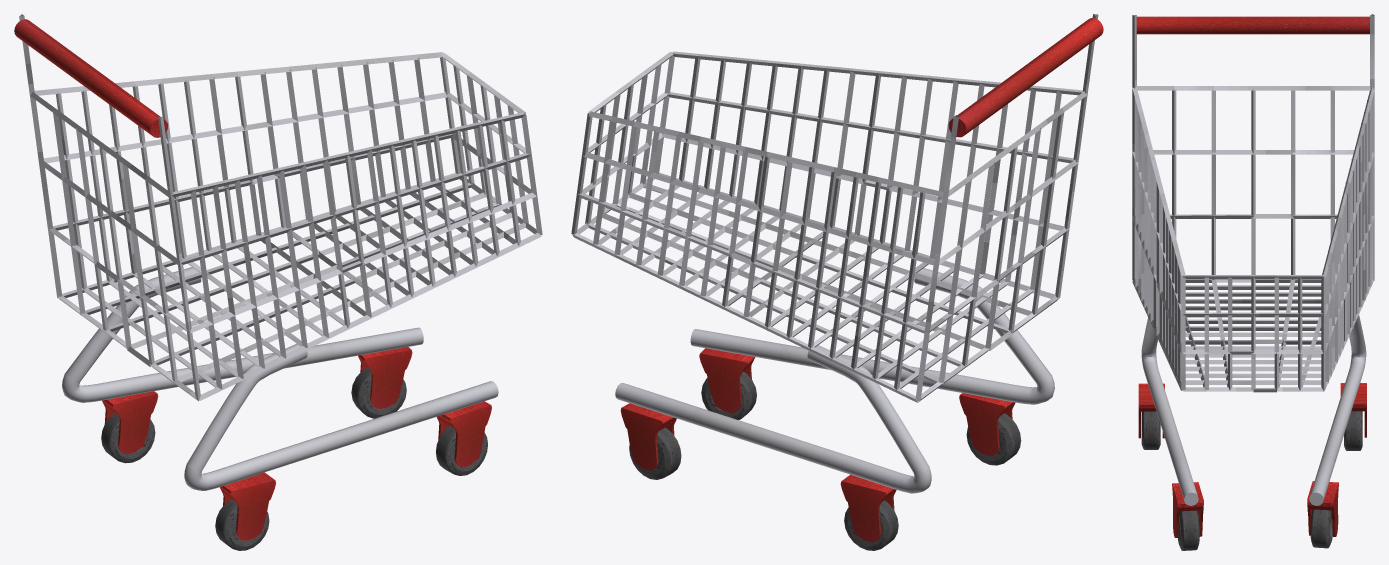
File: ShoppingCart.fbx
3 views of the same model, side by side, from view 1: azimuth 30°, elevation 25°; view 2: azimuth 150°, elevation 25°; view 3: azimuth 270°, elevation 25° (orthographic). The views are drawn at different scales.
Parts seen in each view (by area): view 1: Basket, BottomHandle, BottomHnadle2, Cylinder001, WheelHolder, WheelHolder001, WheelHolder003, WheelHolder002, Wheel004, Wheel006, Wheel005, Wheel007; view 2: Basket, BottomHnadle2, BottomHandle, Cylinder001, WheelHolder002, WheelHolder001, WheelHolder003, WheelHolder, Wheel004, Wheel006, Wheel005, Wheel007; view 3: Basket, Cylinder001, BottomHnadle2, BottomHandle, Wheel007, WheelHolder002, Wheel006, WheelHolder003, Wheel004, Wheel005, WheelHolder, WheelHolder001.
Boxes of the visible parts, left/top/right/bottom form: Basket: left=19, top=14, right=542, bottom=401; BottomHandle: left=184, top=343, right=498, bottom=490; BottomHnadle2: left=62, top=267, right=423, bottom=402; Cylinder001: left=14, top=19, right=167, bottom=137; WheelHolder: left=220, top=472, right=275, bottom=540; WheelHolder001: left=102, top=391, right=158, bottom=453; WheelHolder003: left=358, top=347, right=412, bottom=408; WheelHolder002: left=436, top=401, right=491, bottom=467; Wheel004: left=215, top=499, right=269, bottom=550; Wheel006: left=351, top=367, right=406, bottom=418; Wheel005: left=101, top=413, right=155, bottom=463; Wheel007: left=436, top=426, right=487, bottom=475; Basket: left=571, top=14, right=1098, bottom=402; BottomHnadle2: left=615, top=345, right=931, bottom=493; BottomHandle: left=690, top=268, right=1054, bottom=404; Cylinder001: left=948, top=18, right=1103, bottom=137; WheelHolder002: left=699, top=348, right=755, bottom=412; WheelHolder001: left=840, top=474, right=896, bottom=542; WheelHolder003: left=620, top=403, right=676, bottom=470; WheelHolder: left=959, top=393, right=1015, bottom=455; Wheel004: left=966, top=413, right=1021, bottom=465; Wheel006: left=629, top=427, right=681, bottom=479; Wheel005: left=844, top=500, right=898, bottom=550; Wheel007: left=701, top=371, right=756, bottom=419; Basket: left=1132, top=14, right=1374, bottom=392; Cylinder001: left=1136, top=16, right=1369, bottom=34; BottomHnadle2: left=1309, top=315, right=1366, bottom=505; BottomHandle: left=1141, top=317, right=1198, bottom=505; Wheel007: left=1178, top=510, right=1199, bottom=550; WheelHolder002: left=1172, top=482, right=1203, bottom=537; Wheel006: left=1310, top=509, right=1332, bottom=548; WheelHolder003: left=1307, top=481, right=1338, bottom=536; Wheel004: left=1141, top=411, right=1160, bottom=449; Wheel005: left=1344, top=411, right=1362, bottom=450; WheelHolder: left=1138, top=383, right=1164, bottom=438; WheelHolder001: left=1340, top=383, right=1366, bottom=437.
Bounding box in the file's own units: 46.99 × 49.25 × 27.4.
